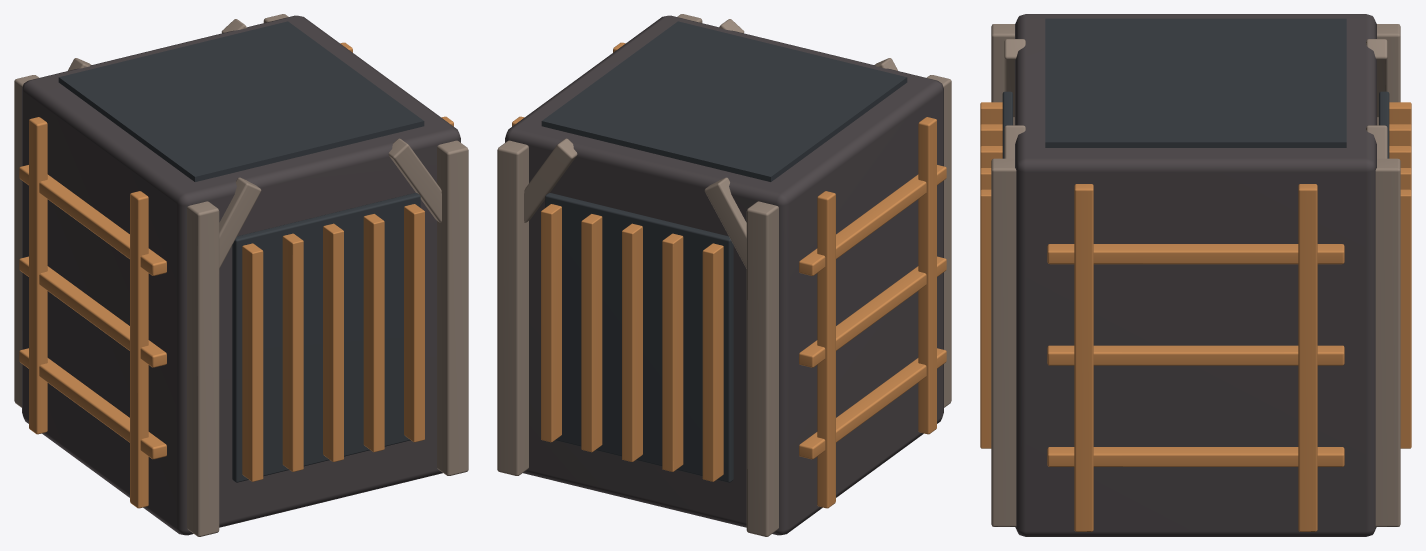
The model's file is uplink-top-1.glb.
3 renders of one model, left to right at view 1: azimuth 30°, elevation 25°; view 2: azimuth 150°, elevation 25°; view 3: azimuth 270°, elevation 25°, orthographic. The views are drawn at different scales.
Visible parts, largest first — view 1: uplink_0, uplink_2, uplink_3, uplink_1; view 2: uplink_0, uplink_2, uplink_3, uplink_1; view 3: uplink_0, uplink_2, uplink_3, uplink_1.
Boxes of the visible parts, x1=… form: uplink_0: x1=22, y1=15, x2=460, y2=535; uplink_2: x1=58, y1=21, x2=424, y2=482; uplink_3: x1=19, y1=42, x2=453, y2=508; uplink_1: x1=14, y1=14, x2=468, y2=536; uplink_0: x1=505, y1=15, x2=943, y2=535; uplink_2: x1=541, y1=21, x2=907, y2=482; uplink_3: x1=512, y1=42, x2=946, y2=508; uplink_1: x1=497, y1=14, x2=951, y2=536; uplink_0: x1=1015, y1=14, x2=1376, y2=536; uplink_2: x1=1002, y1=18, x2=1389, y2=158; uplink_3: x1=980, y1=102, x2=1411, y2=531; uplink_1: x1=991, y1=24, x2=1400, y2=526.
Size of the model in its own units: 0.94 by 1 by 1.
